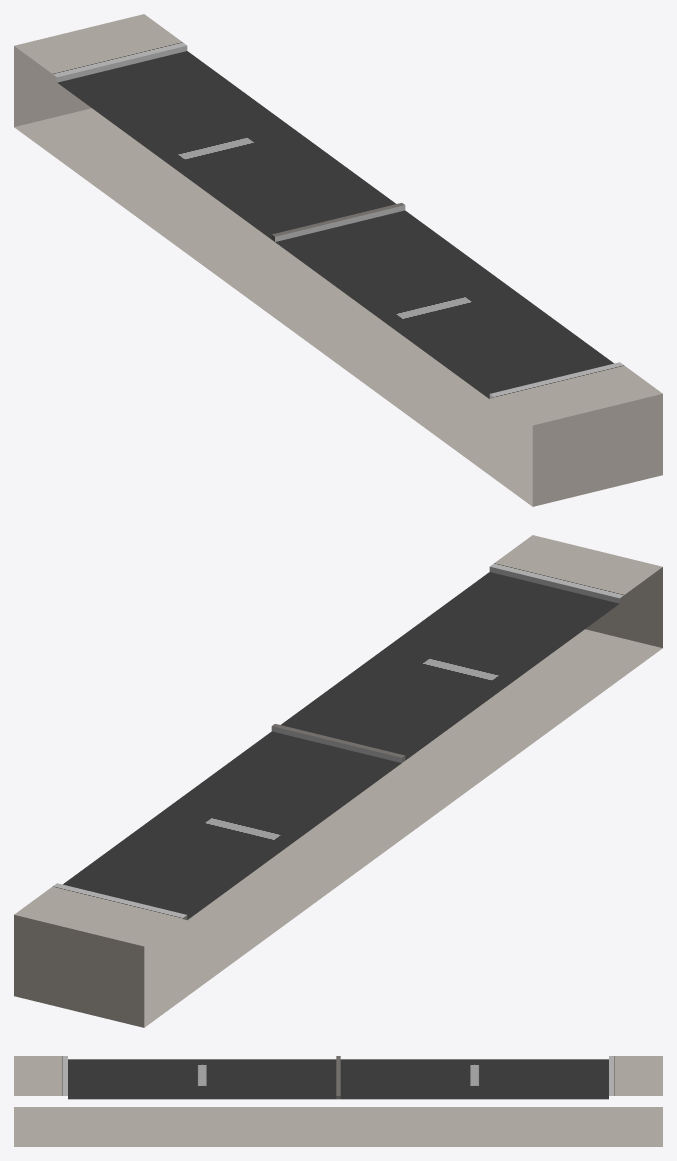
The model's file is road_straight_mesh.FBX.
The picture shows the model from 3 angles, top to bottom: view 1: azimuth 30°, elevation 25°; view 2: azimuth 150°, elevation 25°; view 3: azimuth 270°, elevation 25°; orthographic projection. The views are drawn at different scales.
Parts seen in each view (by area): view 1: road_straight_mesh.001; view 2: road_straight_mesh.001; view 3: road_straight_mesh.001.
Boxes of the visible parts, x1,y1,x2,y2 form: road_straight_mesh.001: (14, 14, 662, 506); road_straight_mesh.001: (14, 535, 662, 1027); road_straight_mesh.001: (14, 1056, 662, 1146).
Bounding box in the file's own units: 12.7 × 7.59 × 87.62.
